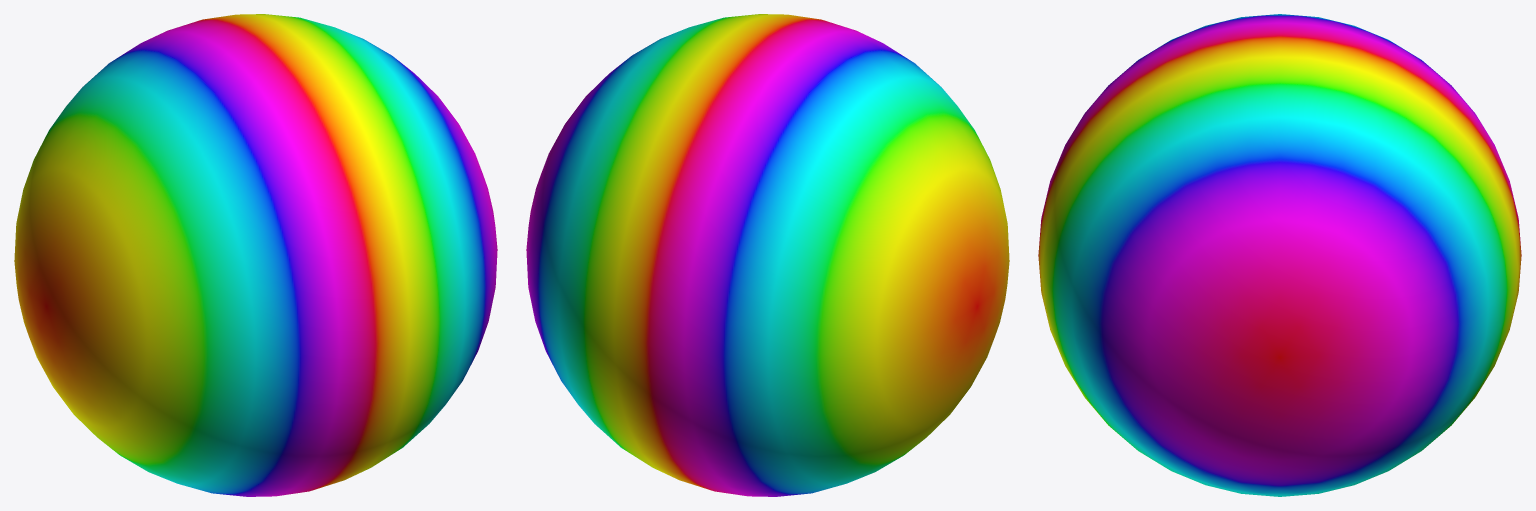
Rendered from RainbowSphere.obj.
3 renders of one model, left to right at view 1: azimuth 30°, elevation 25°; view 2: azimuth 150°, elevation 25°; view 3: azimuth 270°, elevation 25°, orthographic.
Visible parts, largest first — view 1: ICO球; view 2: ICO球; view 3: ICO球.
Boxes of the visible parts, x1=… form: ICO球: x1=14, y1=14, x2=497, y2=496; ICO球: x1=526, y1=14, x2=1009, y2=496; ICO球: x1=1038, y1=14, x2=1521, y2=496.
Bounding box in the file's own units: 1000 × 1000 × 1000.
1 material, 1 textured.
